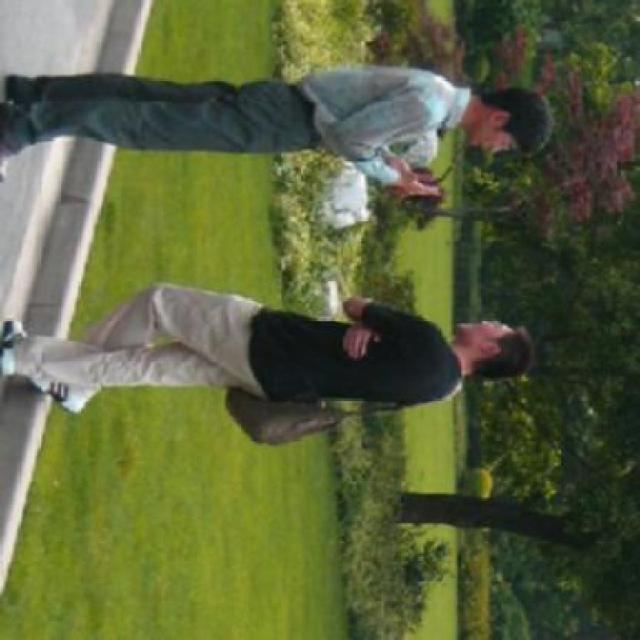Person: (0, 31, 554, 202), (0, 287, 538, 427)
